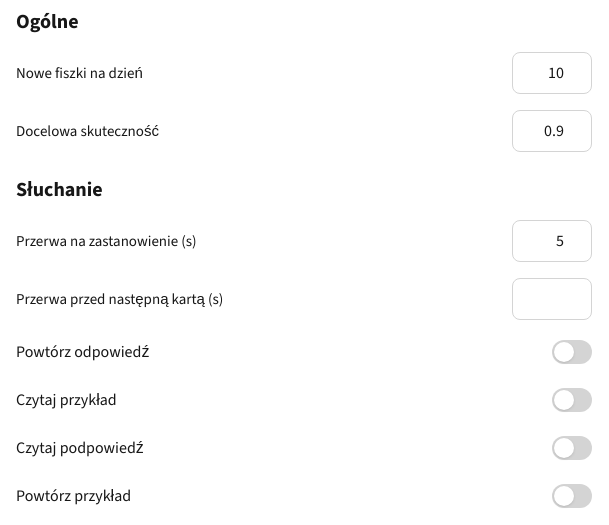
Test case: SettingsPage › PUTs the edited value on blur and displays exactly what the server echoes back, not what was typed
The image size is (609, 525).
Replace the text in the number field showing "10" with "20": [552, 73] box x1=512 y1=52 x2=592 y2=94
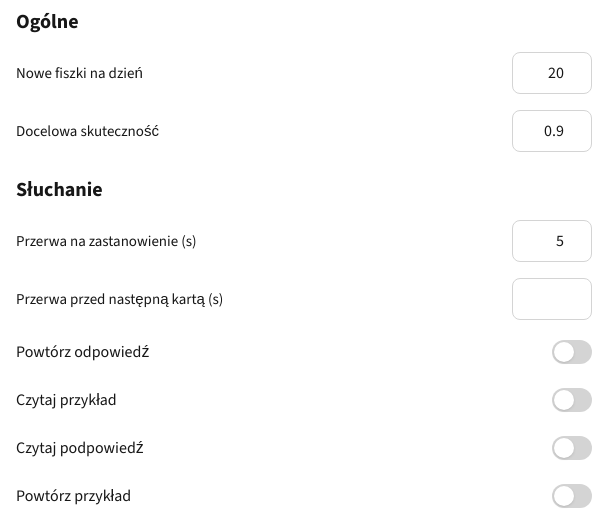
Leave the number field showing "10", box x1=512 y1=52 x2=592 y2=94
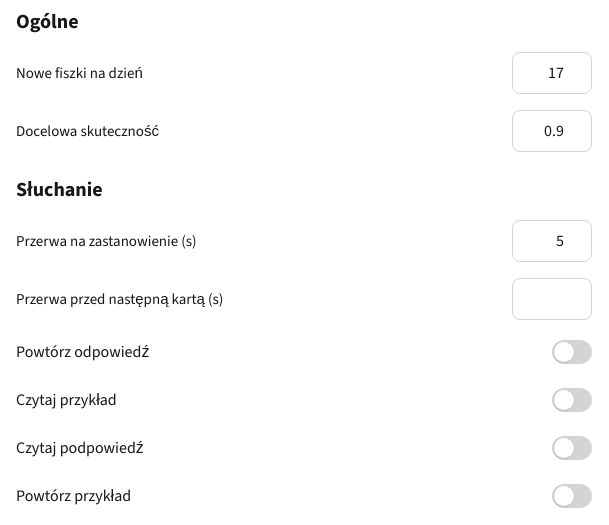
Expected: the field showing "20" is not shown
Now the number field showing "17" is shown, box x1=512 y1=52 x2=592 y2=94
